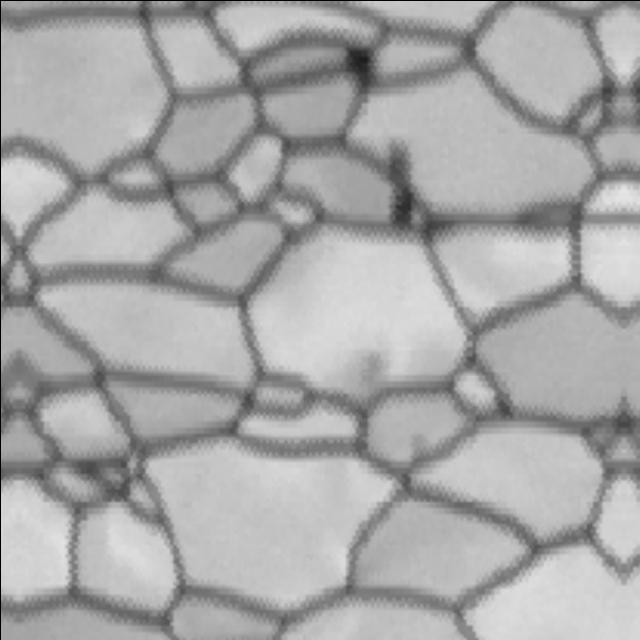good_void: (379, 134, 416, 237), (340, 40, 383, 98), (345, 348, 393, 399), (405, 429, 432, 462)
